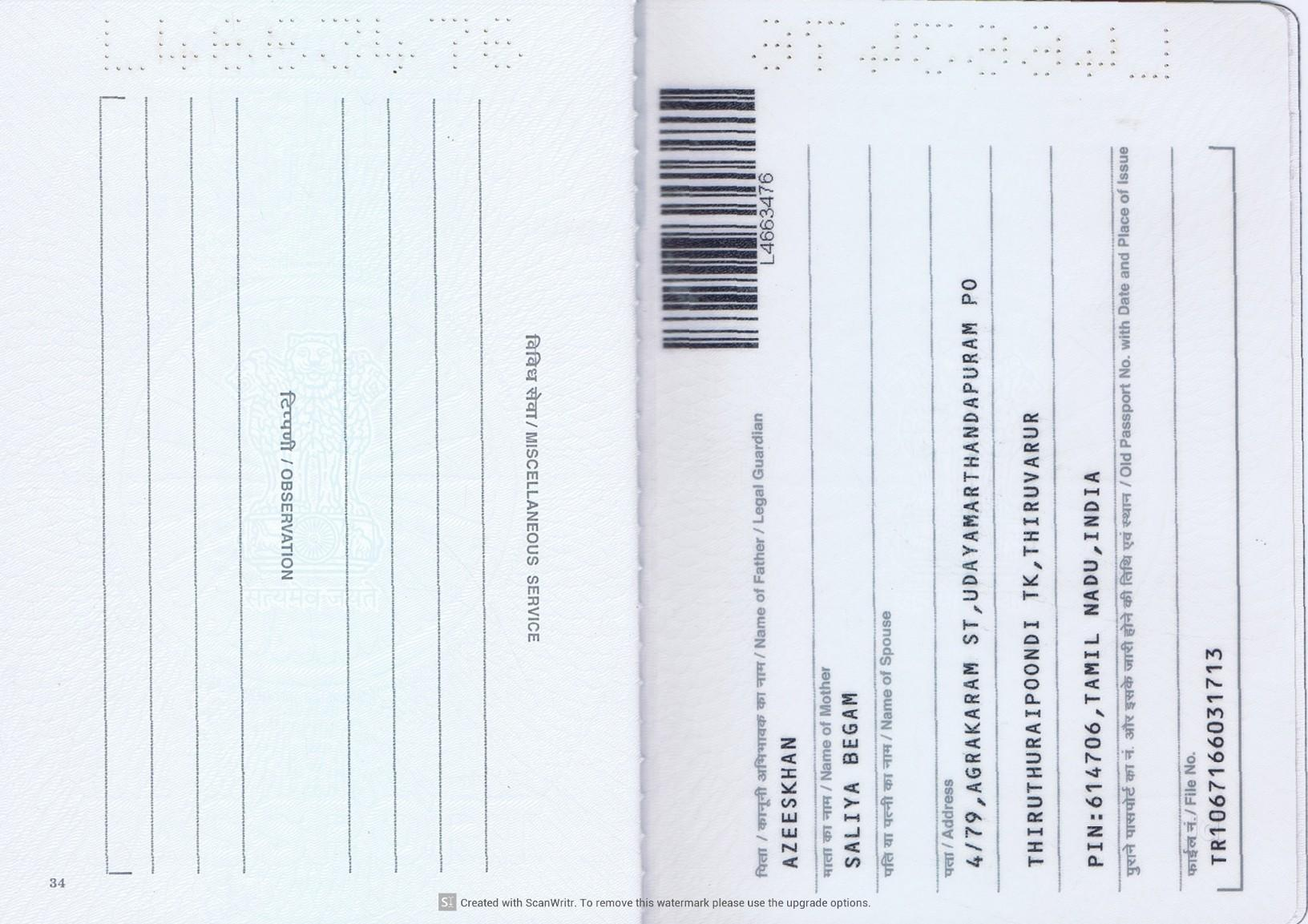File_no: (1198, 639, 1232, 878)
address: (951, 270, 1113, 886)
father_name: (768, 716, 820, 880)
mother_name: (826, 680, 879, 876)
passport_no: (749, 162, 790, 273)
